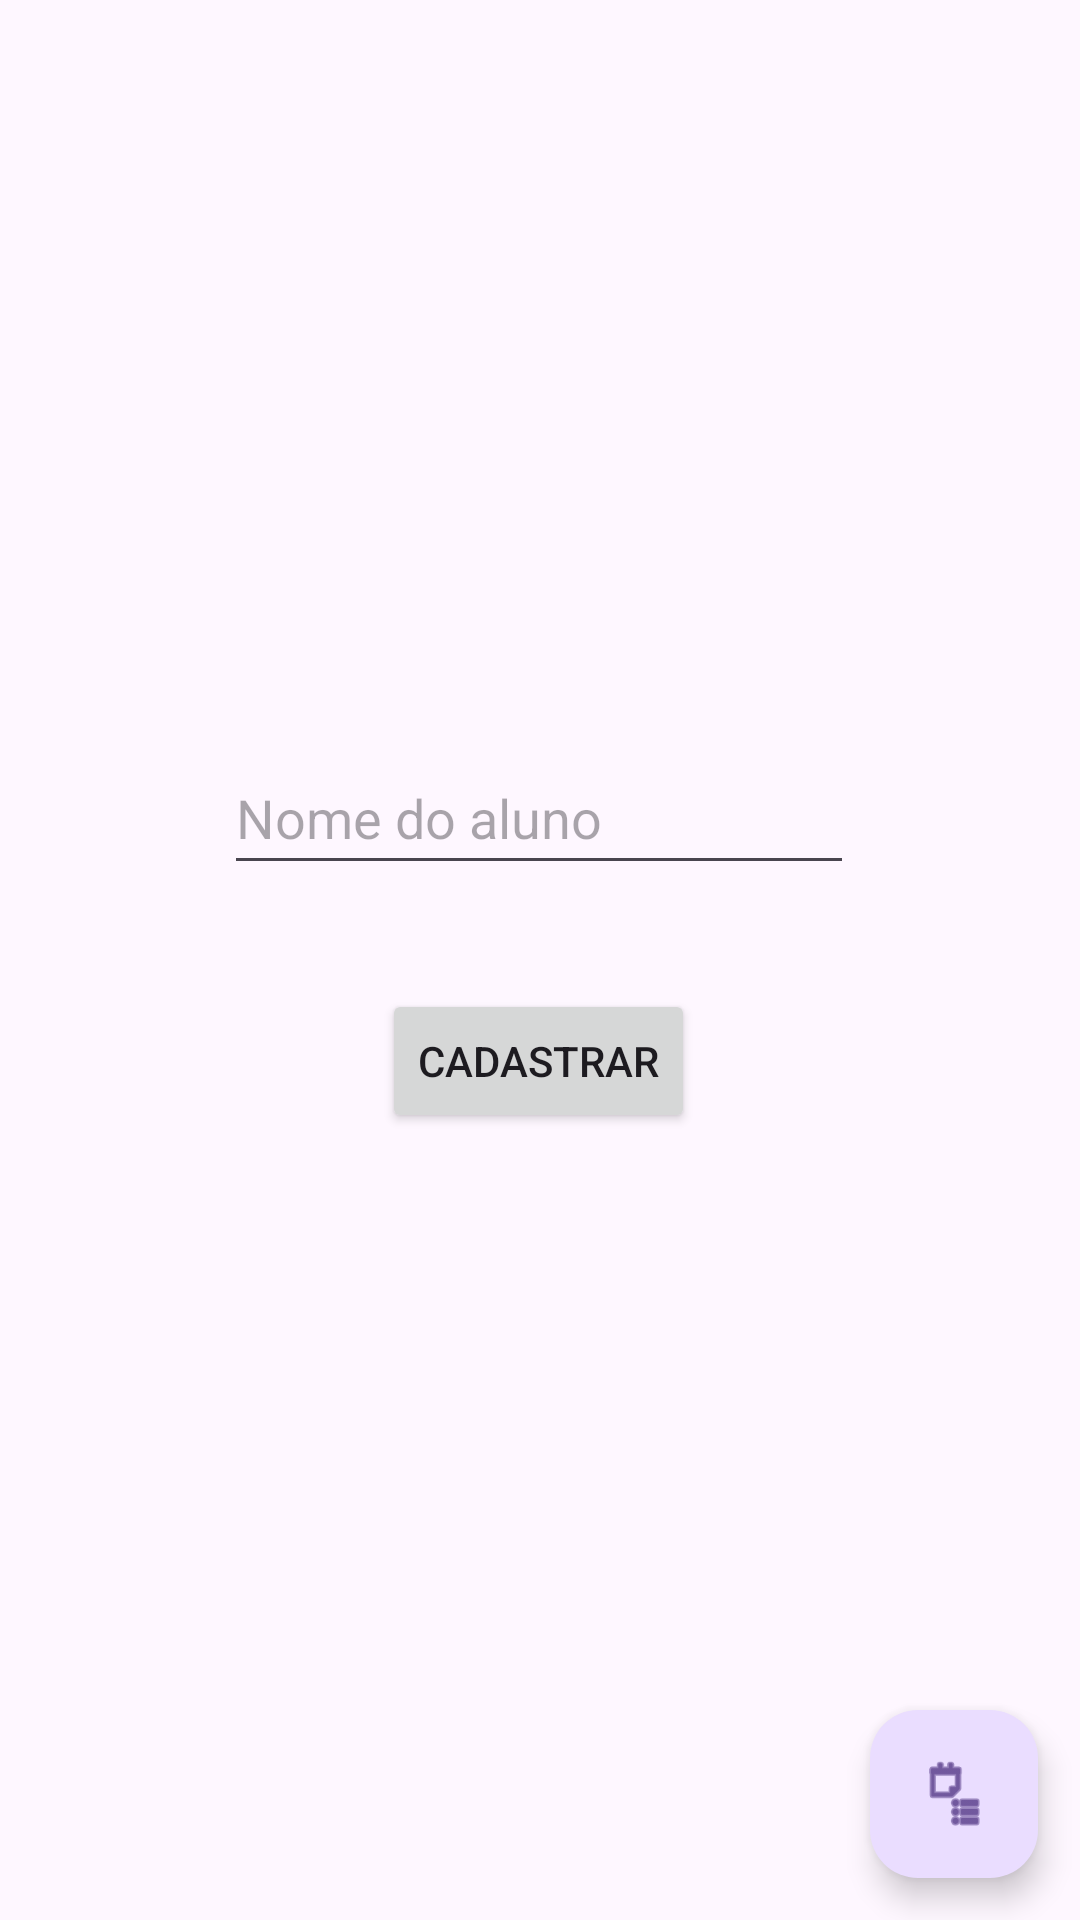

Icons on this 1080px×1920px Android screen, each with its box as box(x1, y1, x2, y2):
agenda: box(870, 1710, 1038, 1878)
